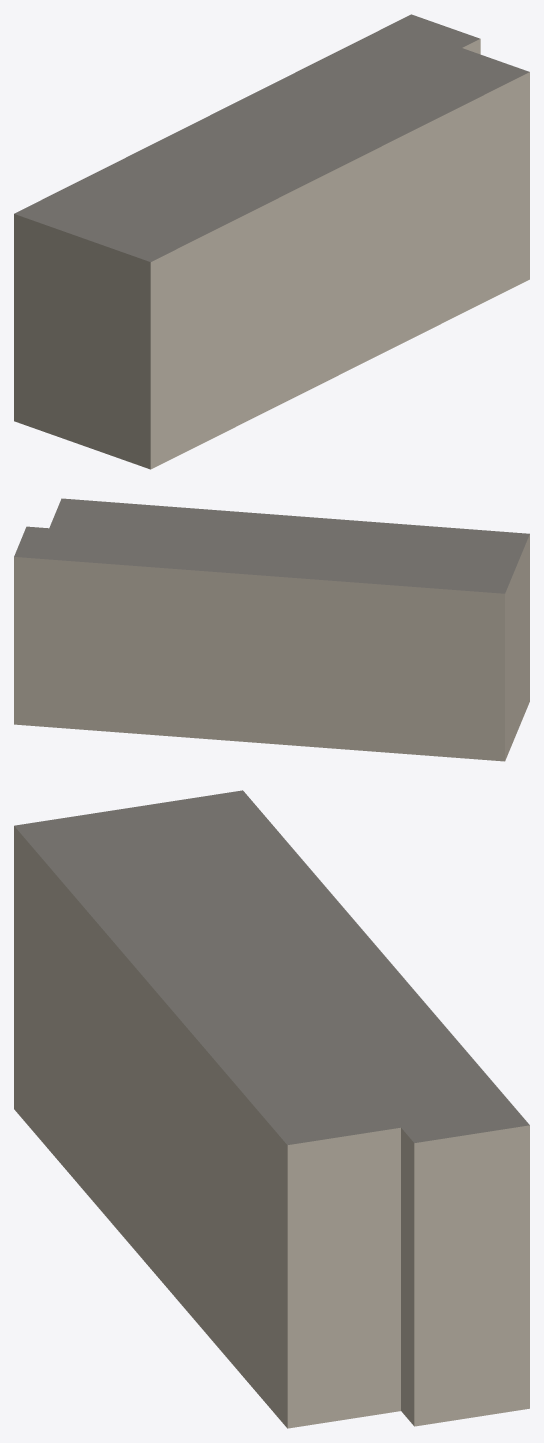
3 views of the same model, one above another, from view 1: azimuth 30°, elevation 25°; view 2: azimuth 150°, elevation 25°; view 3: azimuth 270°, elevation 25° (orthographic). The views are drawn at different scales.
Visible parts, largest first — view 1: HP-w1435851523; view 2: HP-w1435851523; view 3: HP-w1435851523.
Boxes of the visible parts, x1=… form: HP-w1435851523: x1=14, y1=14, x2=529, y2=469; HP-w1435851523: x1=14, y1=498, x2=529, y2=761; HP-w1435851523: x1=14, y1=790, x2=529, y2=1428.
Size of the model in its own units: 48.34 by 18 by 29.7.
